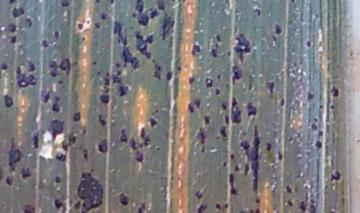tarspot: (134, 30, 165, 82), (239, 124, 262, 193), (110, 20, 141, 71), (75, 170, 104, 213), (132, 1, 157, 28), (157, 1, 174, 39), (13, 64, 37, 89), (233, 33, 252, 64), (7, 135, 21, 174), (228, 95, 242, 126), (47, 118, 66, 138), (59, 132, 78, 151), (229, 63, 243, 87), (58, 56, 73, 76), (244, 99, 259, 117), (186, 98, 202, 114), (227, 171, 237, 195), (195, 126, 207, 145), (117, 191, 130, 208), (111, 69, 124, 86), (96, 138, 109, 154), (47, 60, 58, 78), (11, 6, 26, 19), (39, 87, 50, 104), (19, 165, 33, 178), (54, 151, 68, 164), (3, 94, 15, 109), (217, 125, 229, 139), (210, 43, 220, 59), (190, 43, 202, 56), (146, 117, 159, 129), (330, 169, 341, 183), (265, 80, 275, 95), (118, 128, 128, 143), (135, 201, 147, 213), (117, 85, 128, 98), (308, 198, 317, 213), (22, 204, 37, 213), (196, 202, 208, 213), (52, 198, 64, 209), (203, 77, 214, 89), (72, 111, 82, 124), (297, 199, 306, 213), (7, 21, 18, 32), (99, 93, 110, 104), (314, 138, 324, 150), (97, 114, 107, 126), (134, 150, 144, 162), (32, 133, 39, 150), (274, 23, 283, 36), (52, 29, 61, 42), (40, 38, 50, 49), (305, 90, 314, 102), (81, 148, 90, 160), (25, 17, 34, 29), (27, 61, 36, 73), (101, 76, 110, 88), (330, 85, 338, 98), (252, 6, 262, 16), (101, 86, 111, 96), (194, 190, 203, 201), (51, 102, 60, 113), (220, 99, 228, 111), (304, 39, 313, 49), (4, 175, 13, 185), (99, 11, 108, 21), (212, 88, 222, 97), (165, 70, 173, 81), (203, 114, 211, 125), (223, 113, 230, 125), (53, 174, 62, 183), (9, 35, 18, 44), (310, 122, 319, 131), (214, 201, 222, 211), (76, 22, 84, 32), (143, 136, 151, 146), (265, 142, 273, 151), (285, 184, 293, 193), (286, 198, 294, 207), (253, 196, 261, 205), (232, 163, 240, 172), (73, 200, 81, 209), (186, 76, 195, 84), (214, 33, 222, 42), (1, 62, 9, 71), (139, 127, 145, 139), (229, 151, 236, 161), (60, 1, 70, 8), (317, 128, 324, 138), (277, 150, 283, 161), (93, 21, 101, 29), (90, 59, 98, 67), (223, 1, 231, 9), (80, 34, 87, 43), (271, 34, 278, 43), (223, 202, 230, 210), (57, 77, 64, 85), (199, 146, 206, 154), (95, 69, 102, 77), (114, 61, 121, 69), (279, 97, 285, 106), (216, 72, 222, 81), (225, 50, 232, 57), (317, 103, 324, 110), (312, 116, 319, 123), (103, 71, 110, 78), (1, 164, 4, 180), (329, 103, 335, 111), (155, 145, 161, 153), (224, 82, 230, 90), (176, 64, 182, 72), (254, 207, 261, 213), (221, 160, 227, 167), (7, 1, 16, 5), (108, 1, 114, 6), (249, 208, 254, 213), (170, 1, 176, 5), (180, 1, 187, 4), (289, 1, 295, 4), (94, 1, 100, 4)
